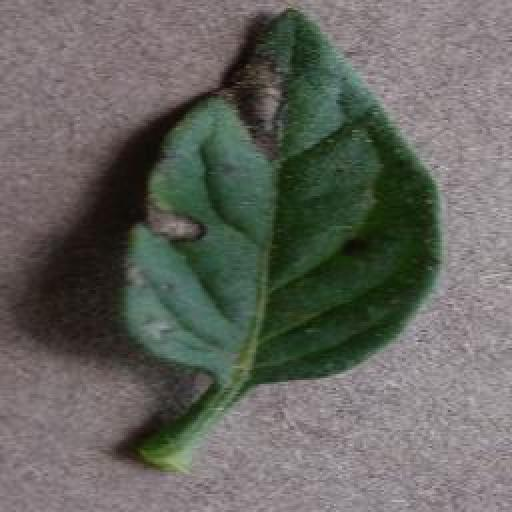disease_tomato: (125, 12, 444, 397)
